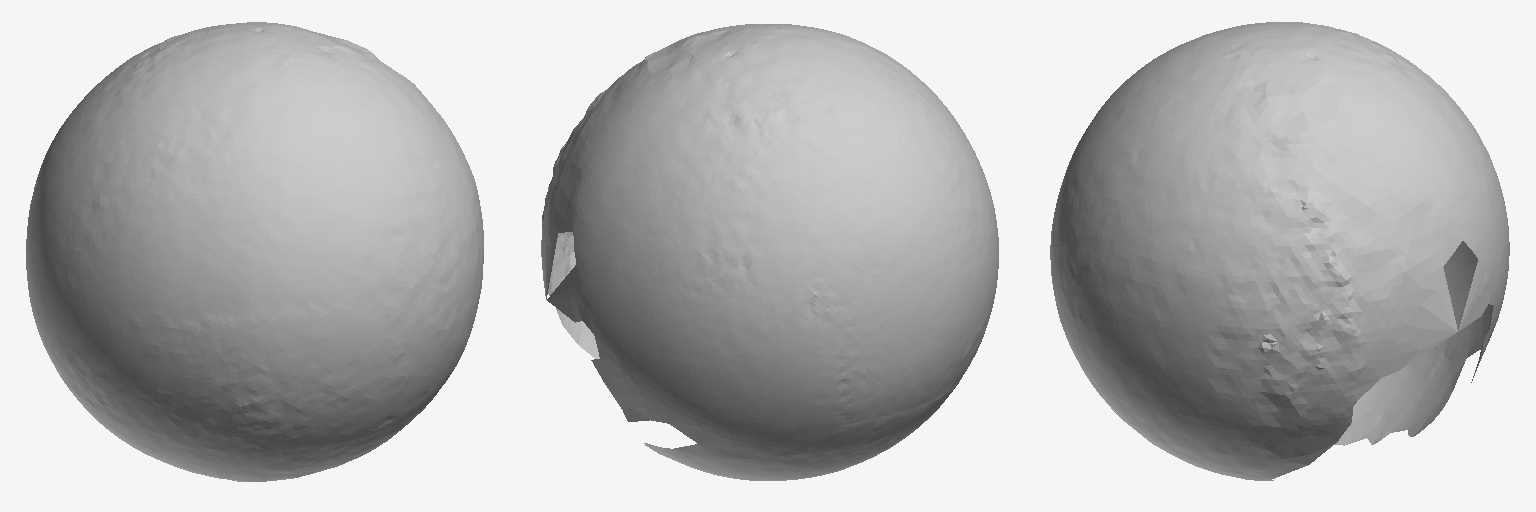
Rendered from Gridtest_2_2_2.000001.obj.
The picture shows the model from 3 angles: view 1: azimuth 30°, elevation 25°; view 2: azimuth 150°, elevation 25°; view 3: azimuth 270°, elevation 25°; orthographic projection.
Bounding box in the file's own units: 301 × 304 × 298.